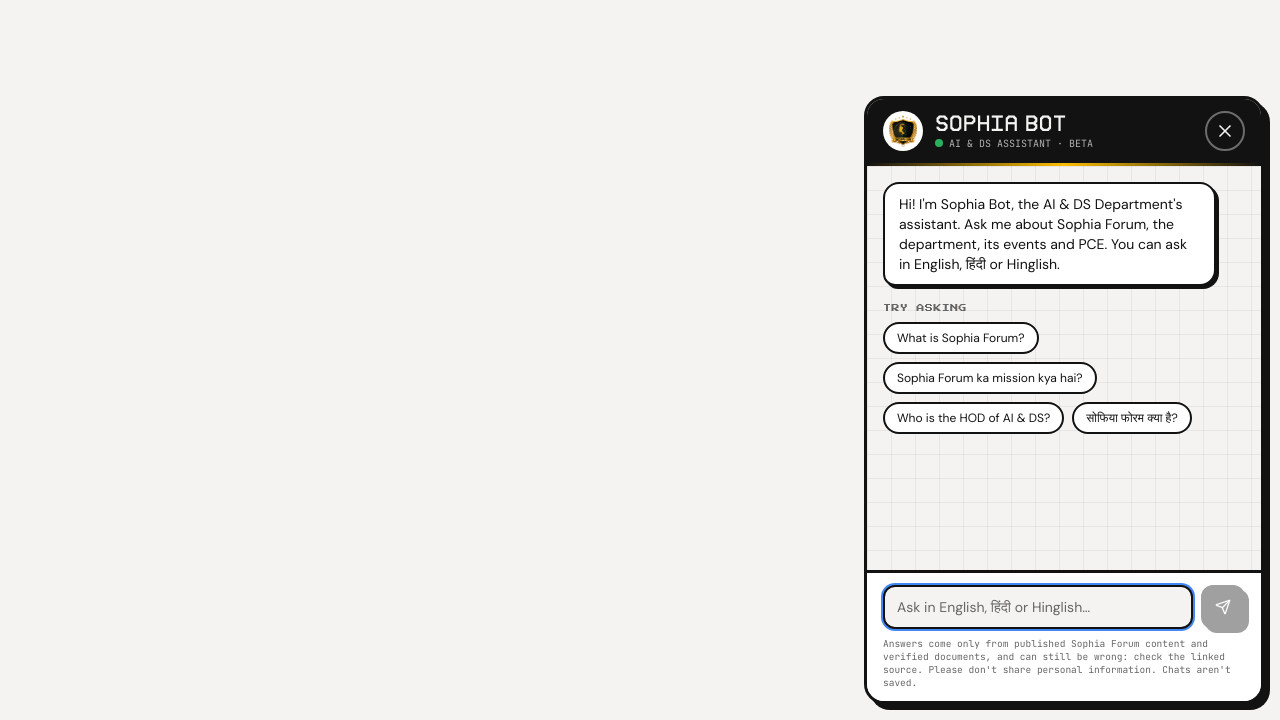
Test case: chat panel › external sources open in a new tab with noopener; unsafe source URLs are not rendered
This screenshot has width=1280, height=720.
Type "library?" into the text box named "Your question" at (1038, 607), box [883, 585, 1193, 629]
Then press Enter
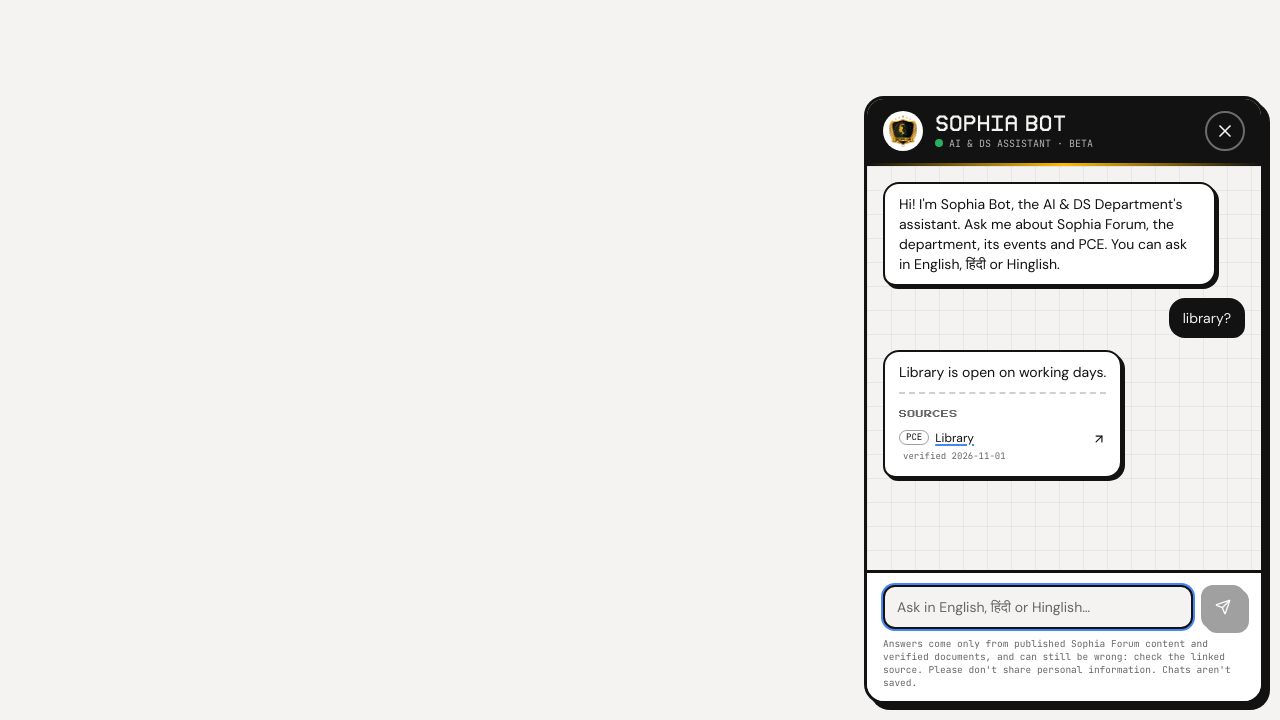
Check: the link "PCE Library" is shown, box [899, 430, 1106, 446]
Check: the text "verified 2026-11-01" is shown, box [903, 450, 1006, 462]
